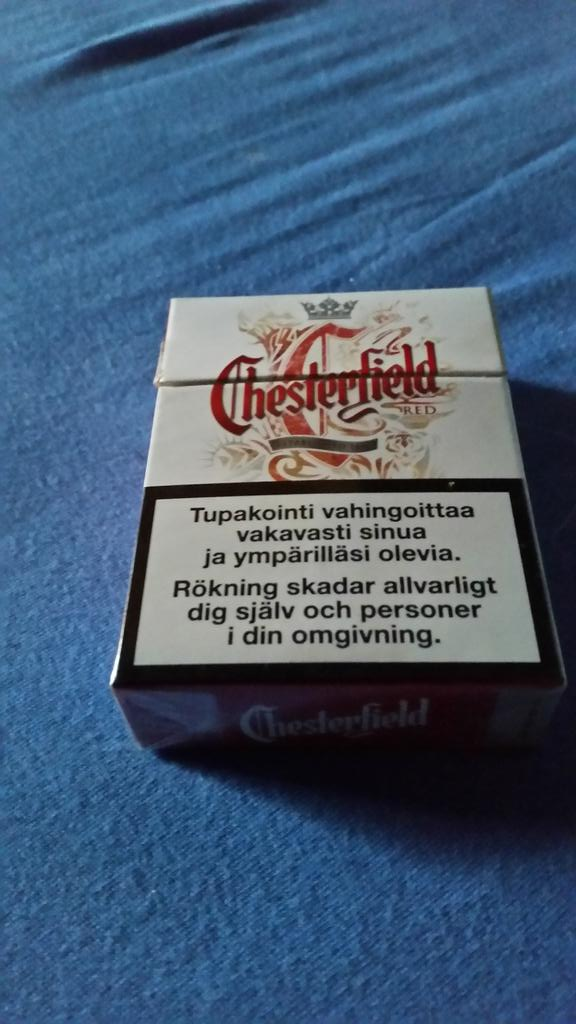chesterfield_red: (169, 290, 498, 682)
